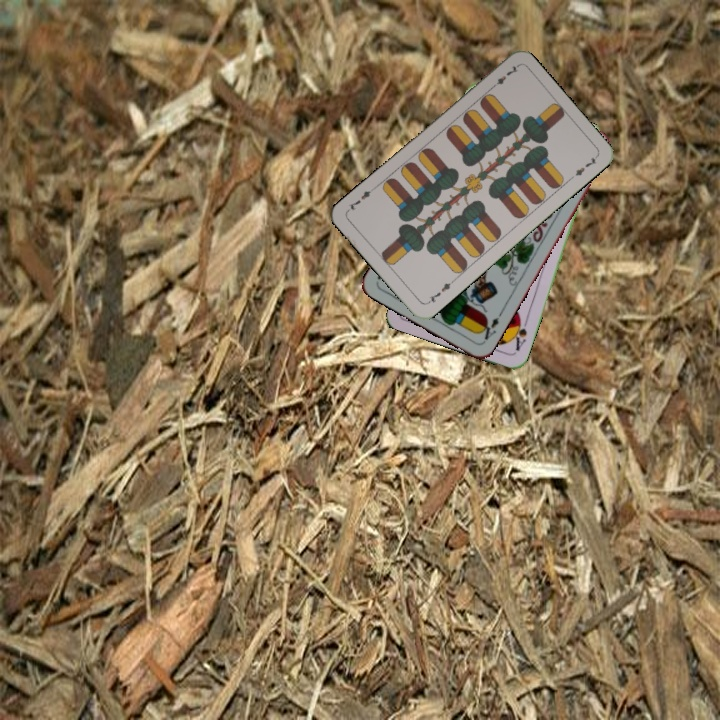E7: (423, 276, 457, 307), (487, 61, 521, 92)
EA: (475, 313, 502, 345)
SA: (509, 314, 531, 354)
